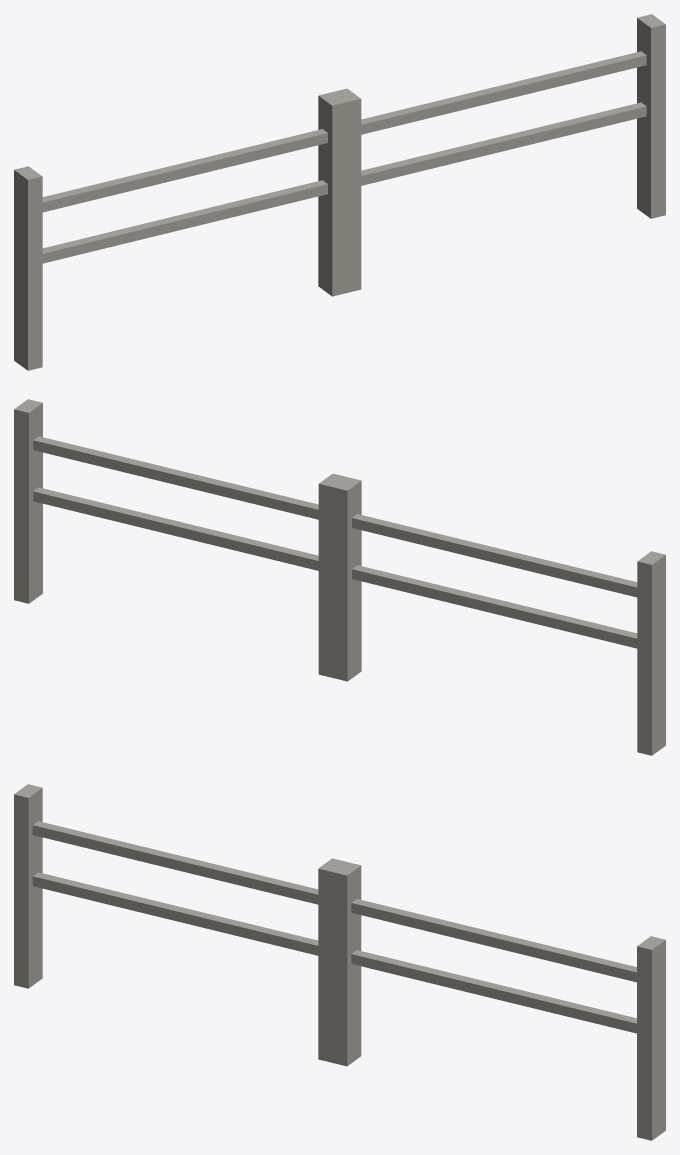
File: prp_13.fbx
3 views of the same model, one above another, from view 1: azimuth 30°, elevation 25°; view 2: azimuth 150°, elevation 25°; view 3: azimuth 330°, elevation 25° (orthographic).
Parts seen in each view (by area): view 1: pCube7; view 2: pCube7; view 3: pCube7.
Boxes of the visible parts, left/top/right/bottom form: pCube7: left=14, top=14, right=665, bottom=370; pCube7: left=14, top=399, right=665, bottom=755; pCube7: left=14, top=784, right=665, bottom=1140.
Size of the model in its own units: 490 by 140 by 18.67.
